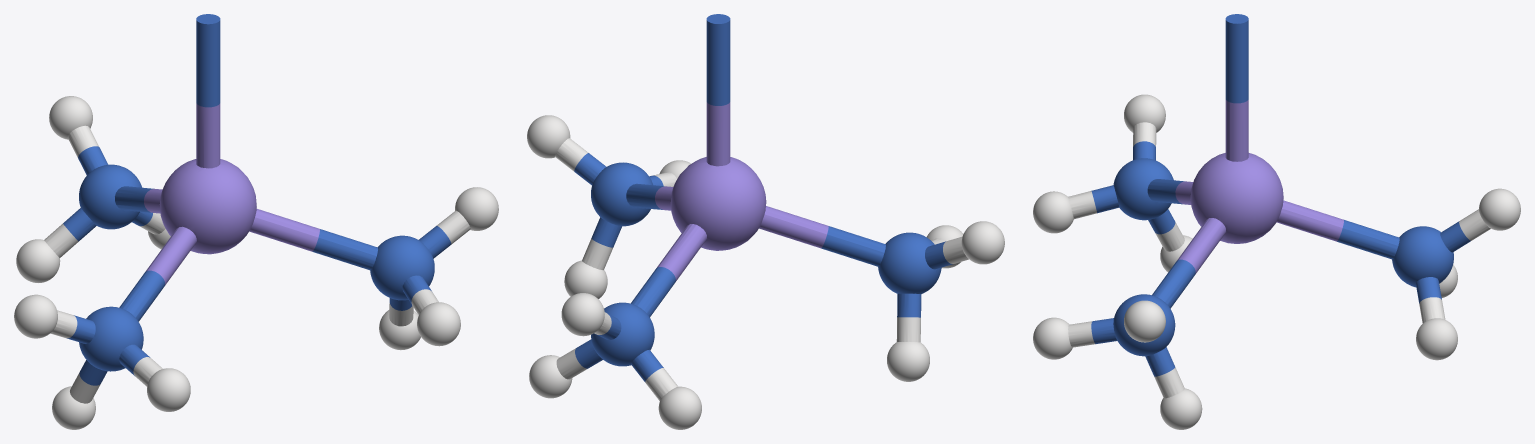
3 views of the same model, side by side, from view 1: azimuth 30°, elevation 25°; view 2: azimuth 150°, elevation 25°; view 3: azimuth 270°, elevation 25° (orthographic). The views are drawn at different scales.
Visible parts, largest first — view 1: 对象003; view 2: 对象003; view 3: 对象003.
Boxes of the visible parts, bbox=[...] form: 对象003: bbox=[14, 14, 498, 429]; 对象003: bbox=[527, 14, 1004, 429]; 对象003: bbox=[1033, 14, 1520, 429].
Bounding box in the file's own units: 68.22 × 47.31 × 62.88.
